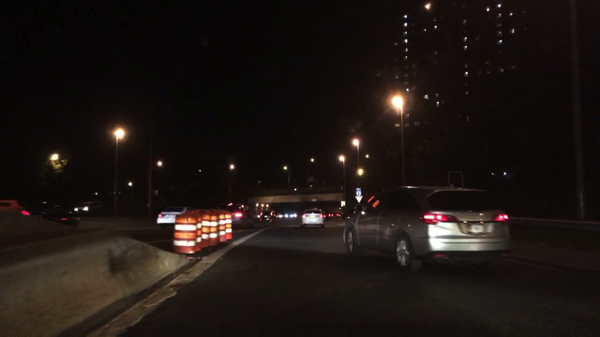car: (342, 184, 515, 274), (33, 198, 81, 226), (155, 205, 196, 230), (218, 202, 252, 228), (0, 198, 31, 217), (299, 210, 325, 229), (73, 201, 103, 213), (256, 210, 275, 222), (324, 211, 335, 221)
traffic sign: (354, 186, 363, 204)
